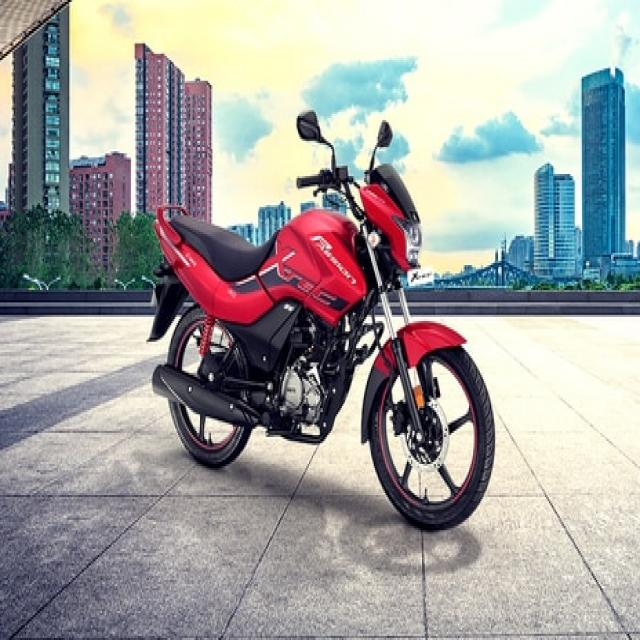Bike: (152, 140, 500, 532)
